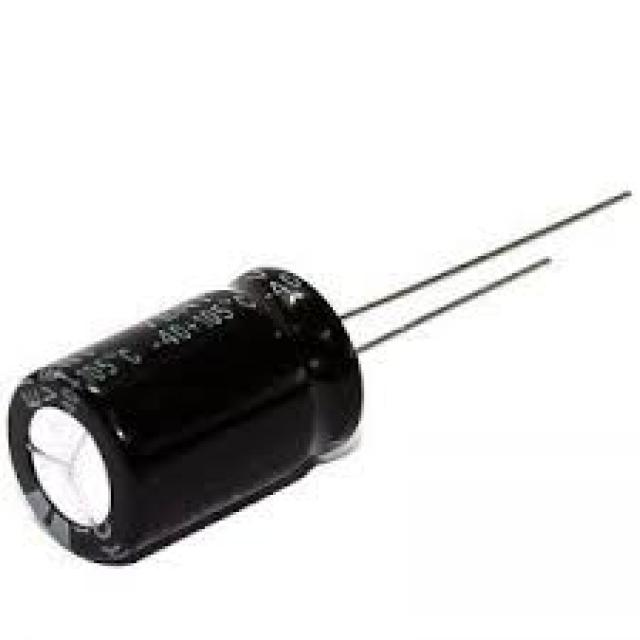Capacitor: (6, 193, 631, 569)
